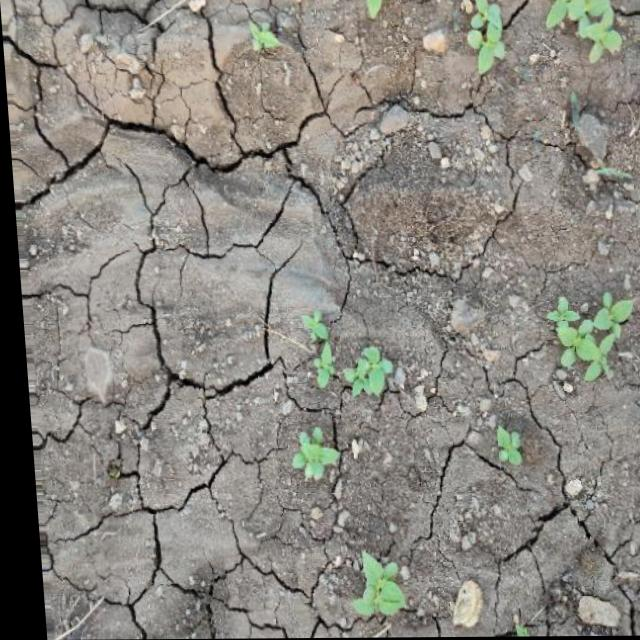crop: (452, 0, 627, 70), (298, 308, 405, 408), (540, 289, 637, 399), (275, 423, 349, 499), (332, 553, 410, 623), (236, 8, 289, 59)
